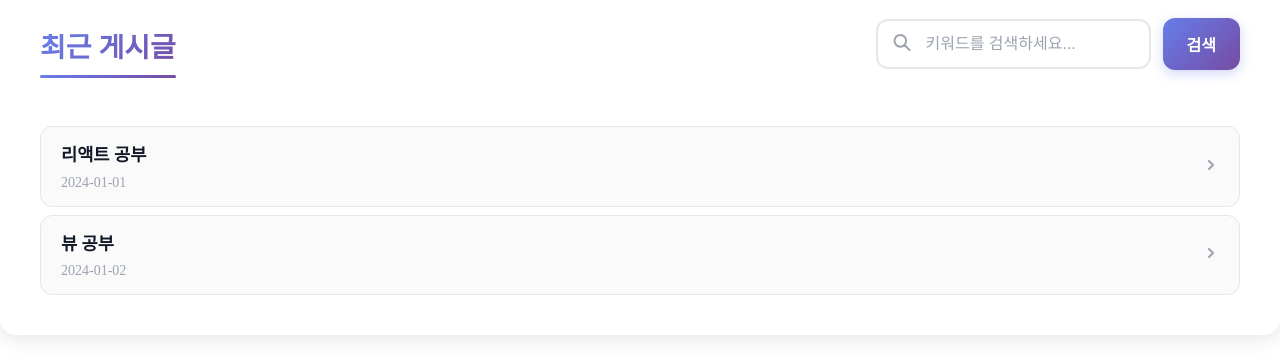
Test case: SearchContainer › 게시글 목록에 검색 쿼리가 전달되는지 확인
Step 1. Type "리액트" into the field with placeholder "키워드를 검색하세요..." → (1013, 44), box [876, 19, 1150, 69]
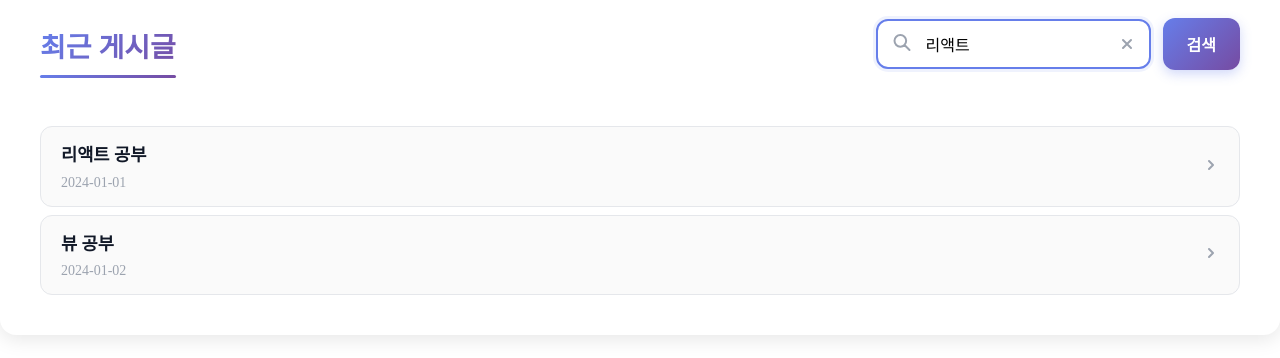
Step 2. Click the button "검색" → (1201, 44), box [1162, 18, 1240, 70]
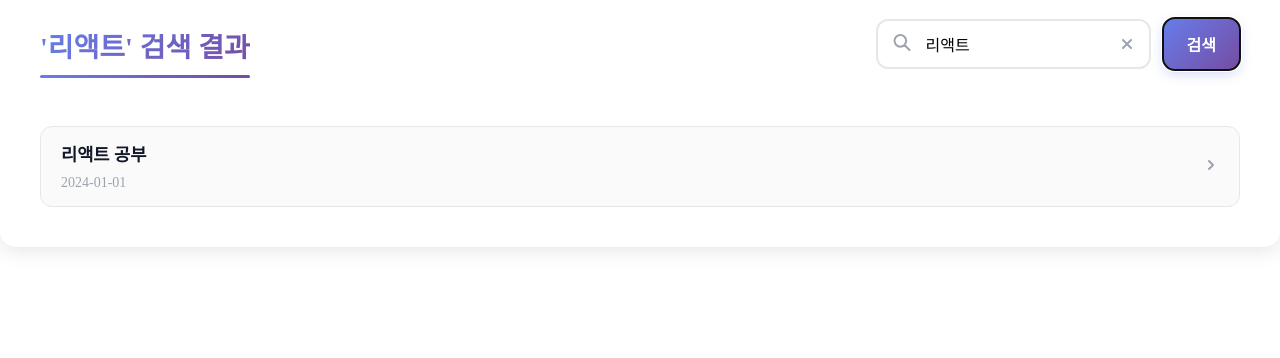
Check: the heading "리액트 공부" is shown, box [61, 145, 146, 165]
Check: the link "뷰 공부" is gone
